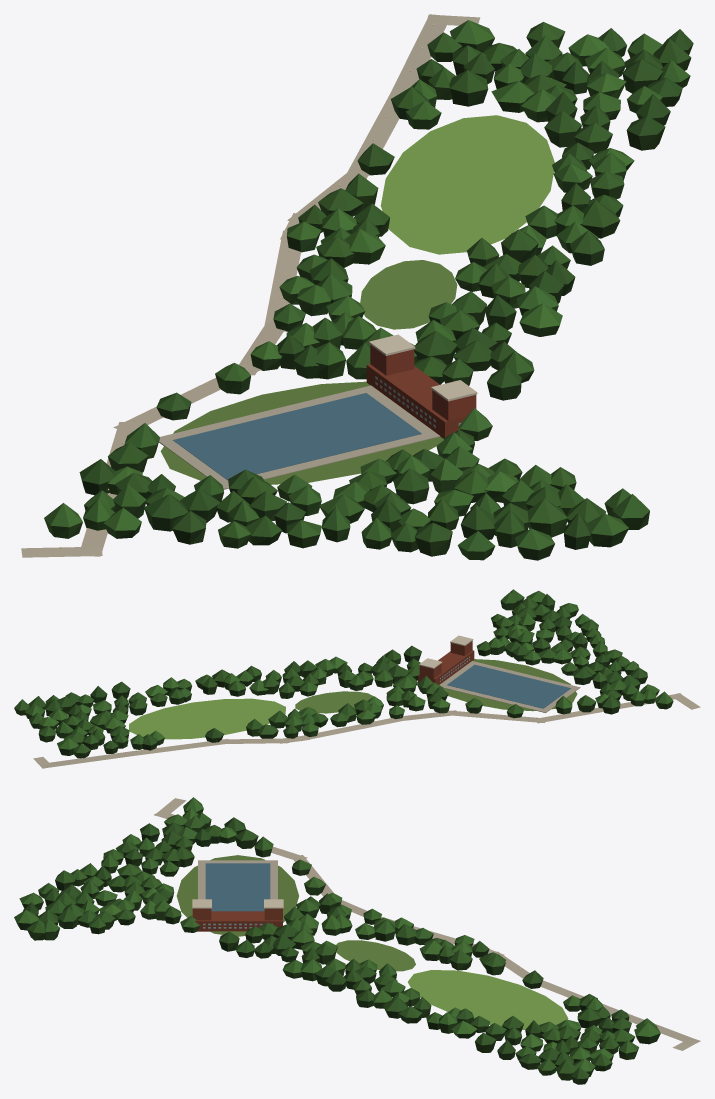
The picture shows the model from 3 angles, top to bottom: view 1: azimuth 30°, elevation 25°; view 2: azimuth 150°, elevation 25°; view 3: azimuth 270°, elevation 25°; orthographic projection. The views are drawn at different scales.
Parts seen in each view (by area): view 1: astoria-park-lod0; view 2: astoria-park-lod0; view 3: astoria-park-lod0.
Boxes of the visible parts, left/top/right/bottom form: astoria-park-lod0: left=21, top=14, right=693, bottom=560; astoria-park-lod0: left=14, top=589, right=700, bottom=768; astoria-park-lod0: left=14, top=797, right=700, bottom=1084.
Size of the model in its own units: 843 by 32.01 by 851.
